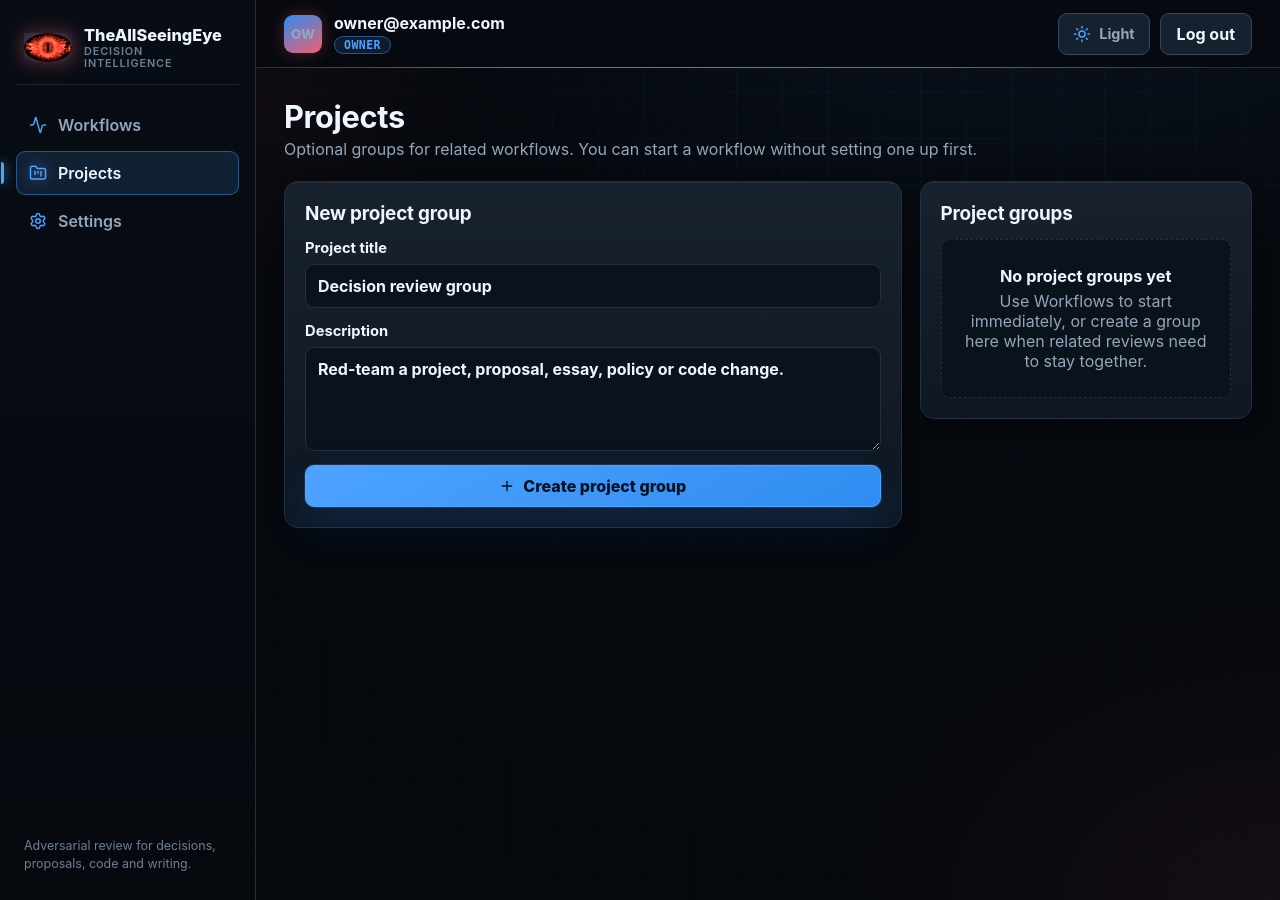
Test case: edge UI flows › surfaces dashboard project creation errors
Replace the text in the field labelled "Project title" with "Denied project" at (593, 286), box x1=305 y1=264 x2=880 y2=308
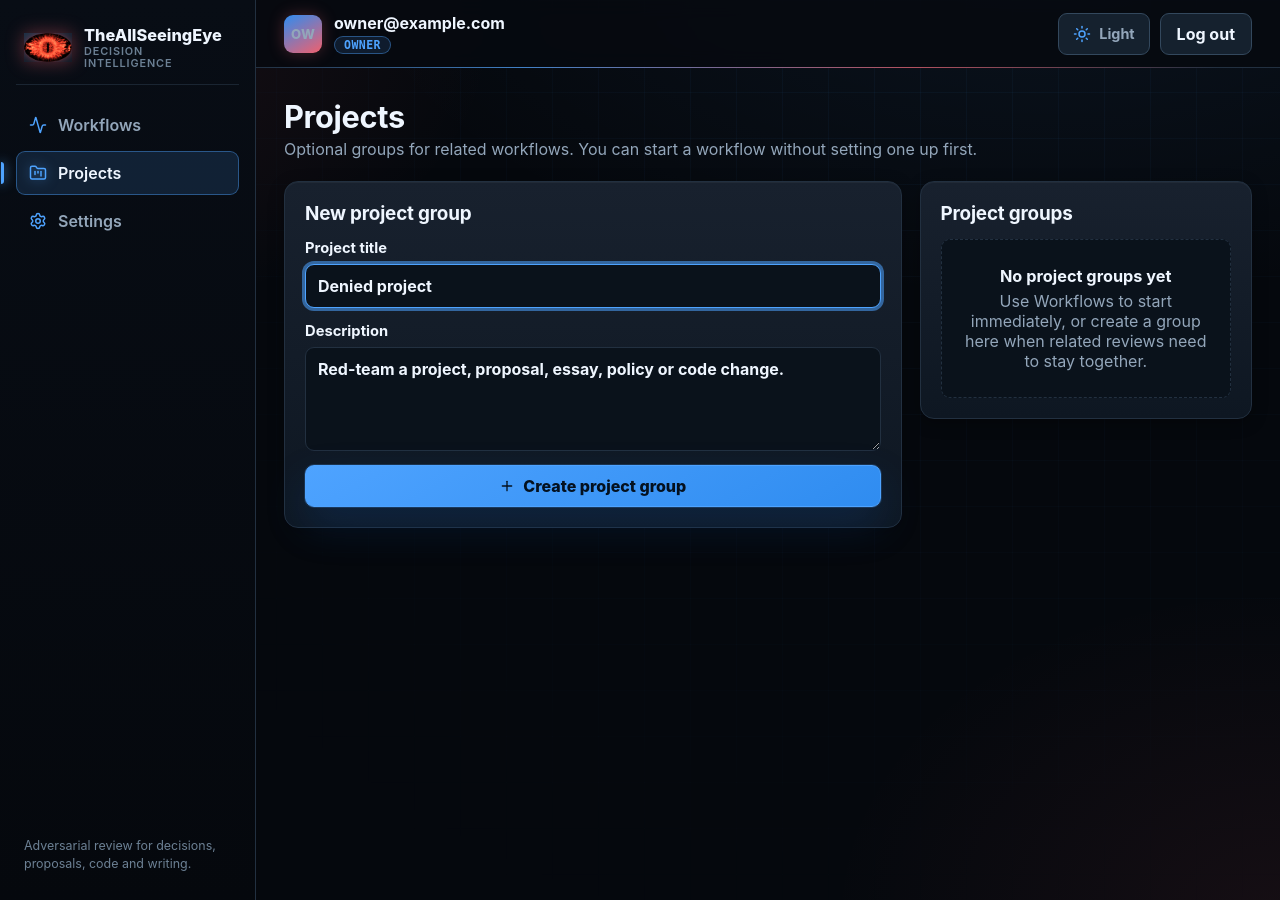
Replace the text in the text box labelled "Description" with "Denied description" at (593, 399), box x1=305 y1=347 x2=880 y2=451
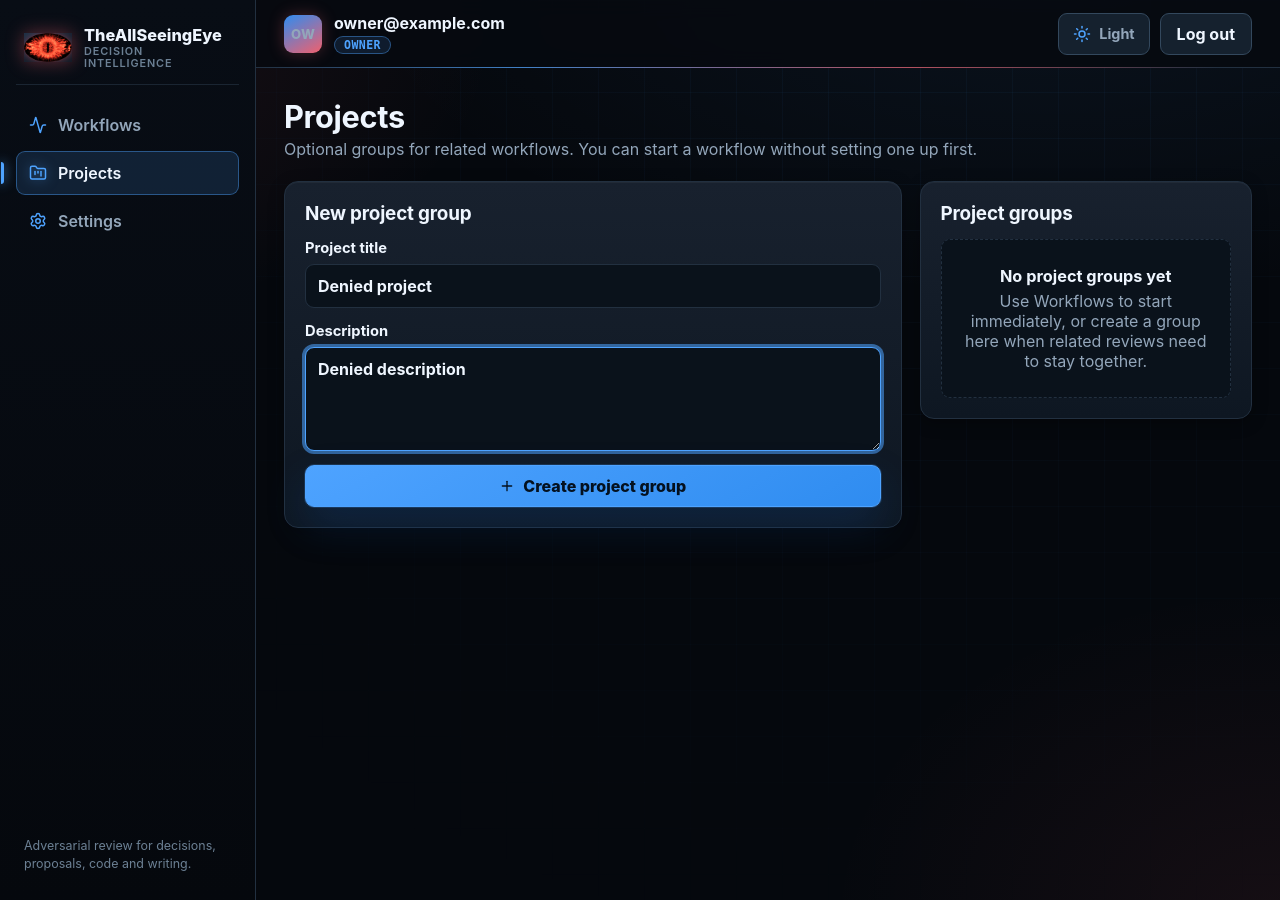
Click the button "Create project group".
click(593, 486)  # box x1=305 y1=465 x2=880 y2=507
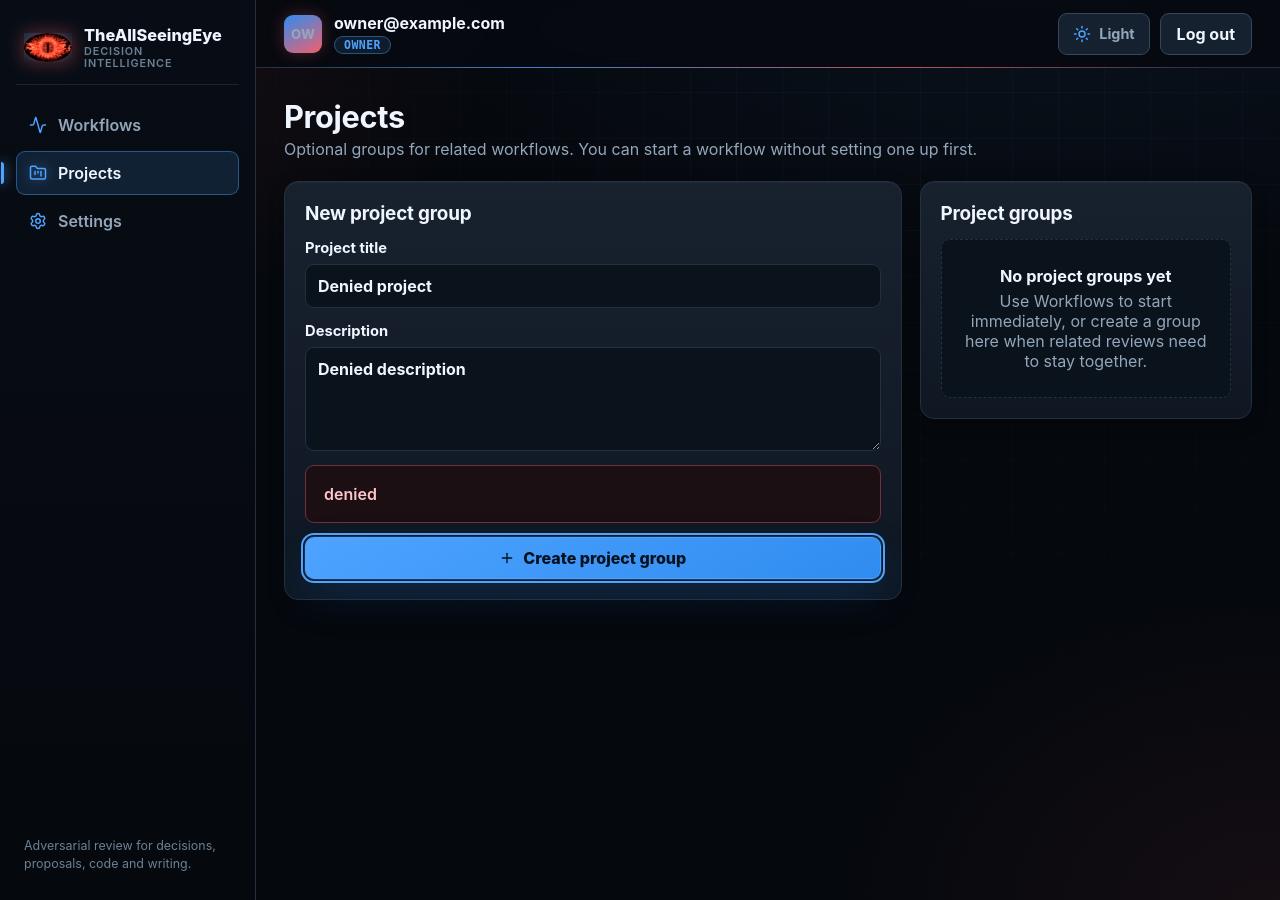
Now the message "denied" is shown, box x1=305 y1=465 x2=880 y2=523
